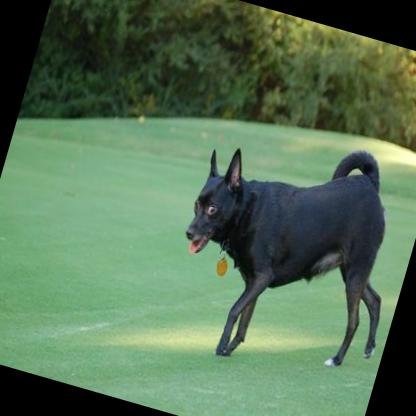schipperke: (153, 105, 416, 399)
